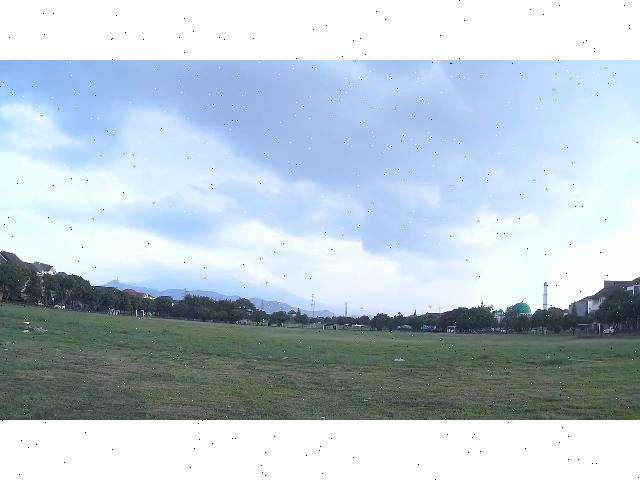Anti-Drone: (336, 320, 374, 334)
